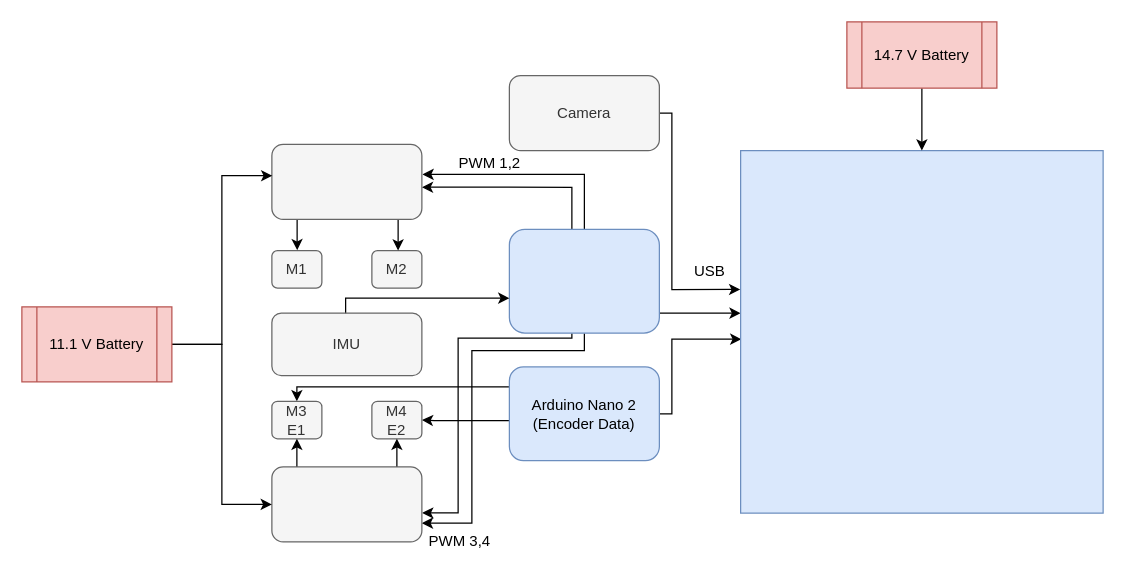
The diagram is 1125 pixels wide and 576 high, and some of its shapes have lost their labels. Each missing label, with the centre of its shape:
"Arduino Nano 1 (Motor Driver/IMU)" belongs at (x=583, y=280).
"Jetson TX2 (Main Processer/GPU)" belongs at (x=921, y=331).
"Motor Controller 1" belongs at (x=346, y=181).
"Motor Controller 2" belongs at (x=346, y=504).
